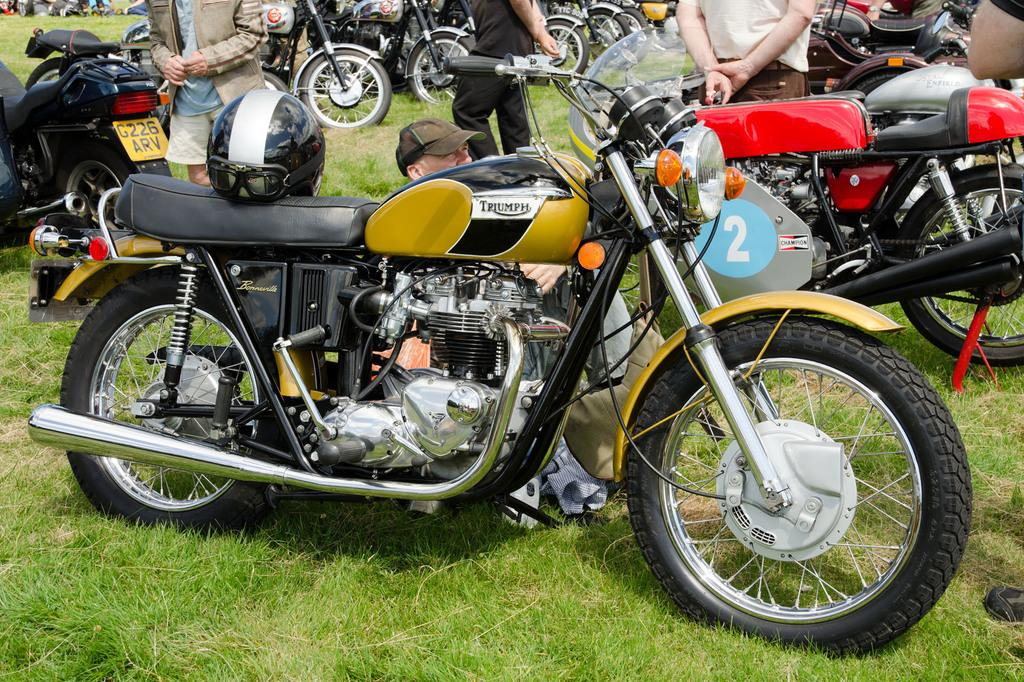helmet: (206, 89, 326, 202)
nohelmet: (396, 118, 478, 203)
